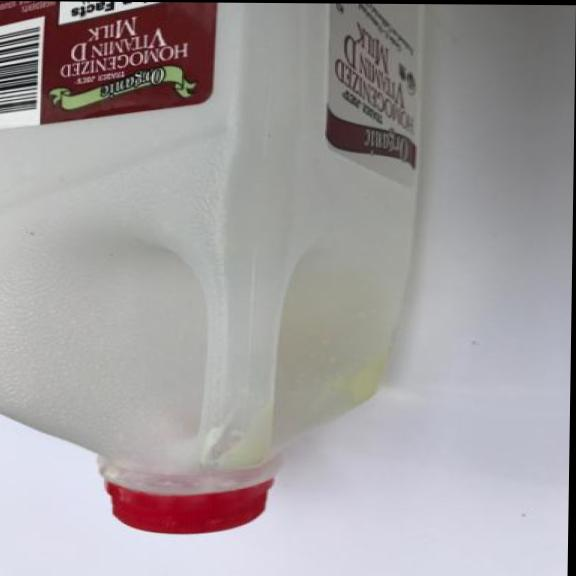Plastik: (0, 1, 428, 540)
